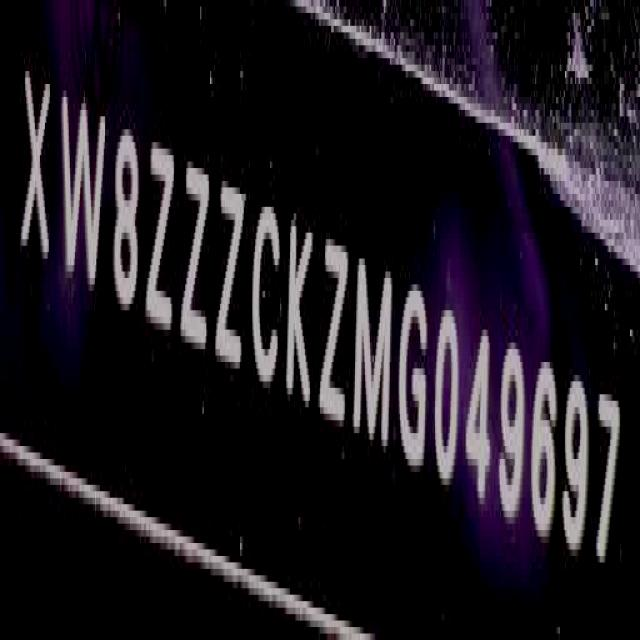0: (432, 301, 459, 491)
4: (466, 320, 494, 512)
6: (530, 354, 558, 543)
7: (596, 383, 622, 574)
8: (114, 122, 140, 320)
9: (499, 339, 527, 528), (562, 372, 590, 559)
C: (252, 193, 282, 394)
G: (396, 278, 428, 474)
K: (287, 209, 317, 416)
N: (352, 250, 392, 456)
W: (58, 77, 105, 299)
X: (20, 60, 52, 282)
Z: (317, 226, 348, 434), (147, 133, 177, 345), (215, 167, 245, 377), (182, 153, 212, 361)
